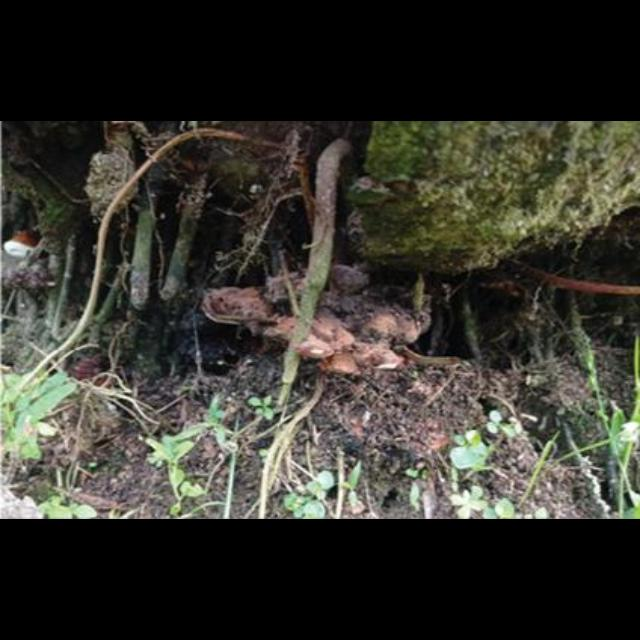ganoderma: (202, 261, 435, 380), (68, 353, 114, 390), (3, 229, 42, 262)
